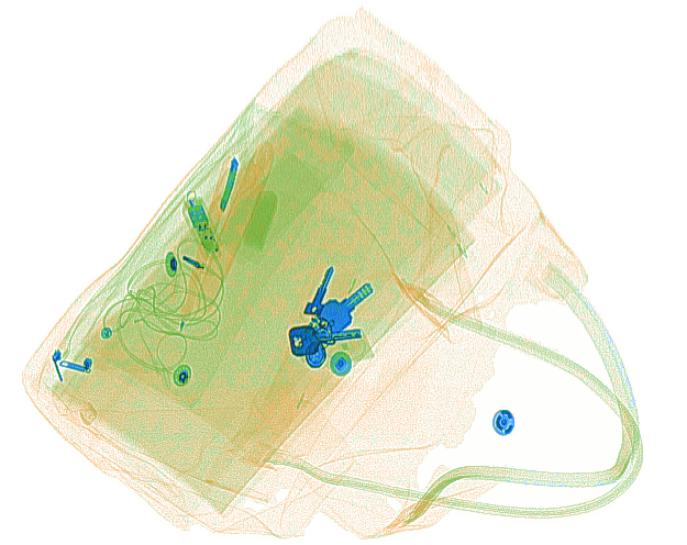USBFlashDisk: (181, 196, 223, 259)
